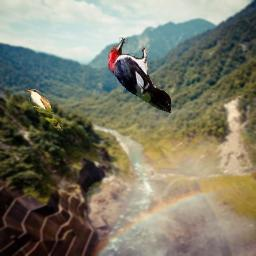Cuckoo: (24, 88, 64, 131)
Woodpecker: (108, 37, 171, 114)
